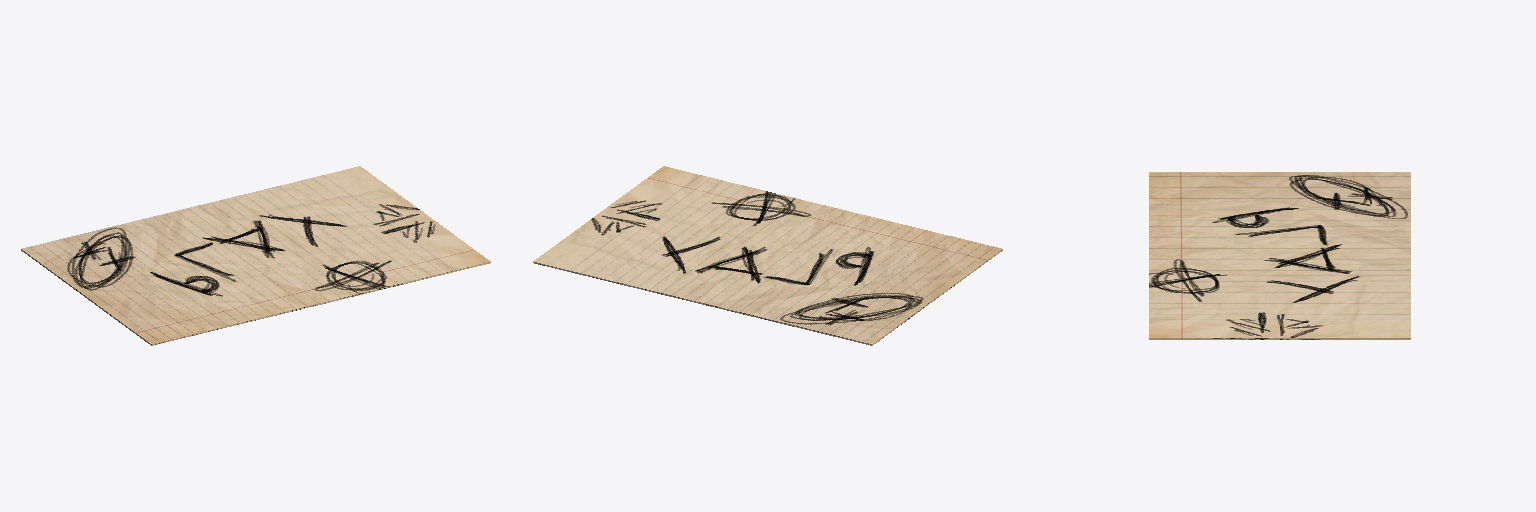
3 views of the same model, side by side, from view 1: azimuth 30°, elevation 25°; view 2: azimuth 150°, elevation 25°; view 3: azimuth 270°, elevation 25° (orthographic).
Visible parts, largest first — view 1: Page_1; view 2: Page_1; view 3: Page_1.
Boxes of the visible parts, box(x1,y1,x2,y2) form: Page_1: box(21, 166, 490, 345); Page_1: box(533, 166, 1002, 345); Page_1: box(1149, 172, 1410, 339).
Size of the model in its own units: 0.45 by 0.002 by 0.3.
Materials: 1 (1 with a texture image).